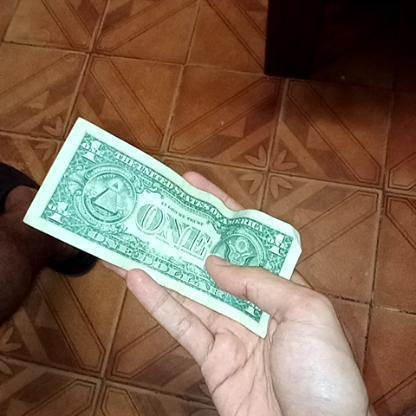one-back: (19, 114, 302, 339)
